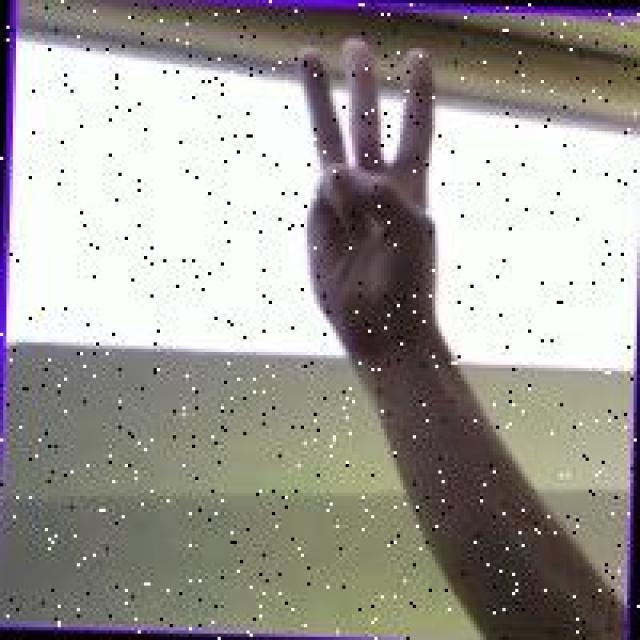W: (272, 32, 461, 333)
